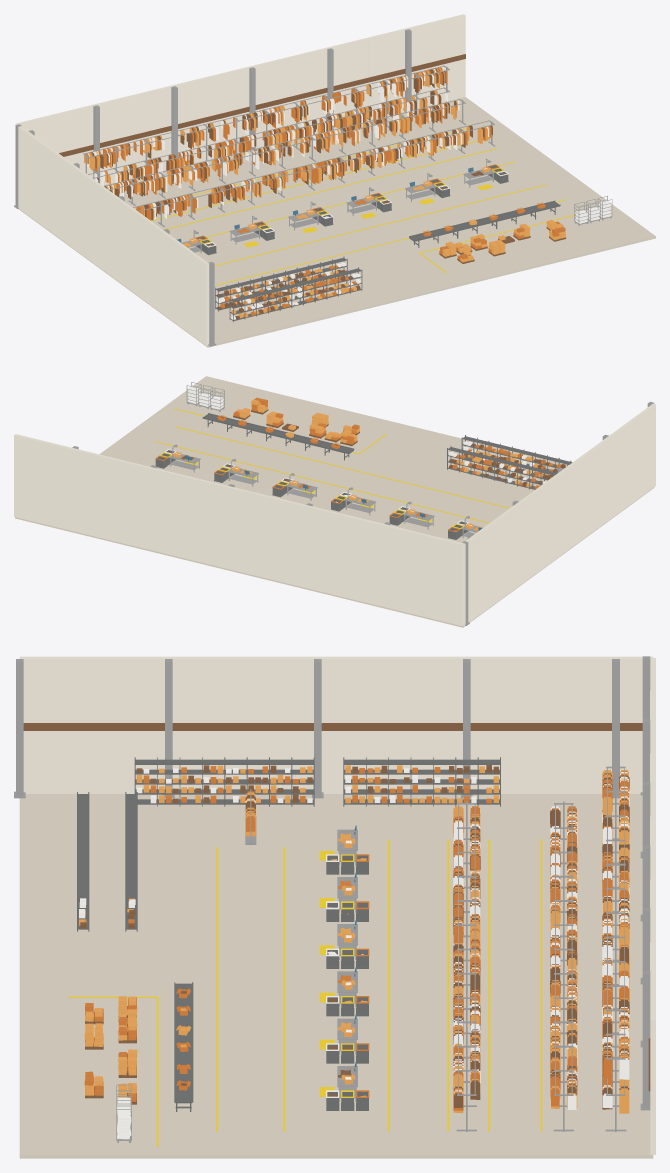
The model's file is fashion.glb.
The picture shows the model from 3 angles, top to bottom: view 1: azimuth 30°, elevation 25°; view 2: azimuth 150°, elevation 25°; view 3: azimuth 270°, elevation 25°; orthographic projection. The views are drawn at different scales.
Parts seen in each view (by area): view 1: hall_floor, hall_wall_y, hall_wall_x, rail_c_frame, hall_cols_y, hall_wall_y_band, lanes, flat_b_frame, rail_b_frame, rail_a_frame, rail_a_t0_0_load_orange, flat_a_frame (+29 smaller); view 2: hall_wall_y, hall_floor, hall_wall_x, flat_a_frame, intake_conveyor, lanes, flat_b_frame, hall_cols_y; view 3: hall_floor, hall_wall_x, hall_cols_x, lanes, hall_wall_x_band, flat_wall_a_frame, hall_cols_y, flat_wall_b_frame, hall_wall_y, rail_a_frame, rail_b_frame, rail_c_frame (+29 smaller).
Part boxes in pixels (x1,y1,x2,y2): hall_floor: (18,97,655,347); hall_wall_y: (16,14,465,184); hall_wall_x: (15,124,209,345); rail_c_frame: (83,65,450,178); hall_cols_y: (14,29,412,208); hall_wall_y_band: (59,54,465,156); lanes: (135,128,567,285); flat_b_frame: (229,267,362,322); rail_b_frame: (104,98,465,205); rail_a_frame: (133,120,495,227); rail_a_t0_0_load_orange: (146,126,491,220); flat_a_frame: (215,256,347,311); hall_wall_y: (14,434,463,625); hall_floor: (15,376,654,627); hall_wall_x: (462,403,655,625); flat_a_frame: (447,446,557,489); intake_conveyor: (202,413,354,460); lanes: (155,426,509,523); flat_b_frame: (461,435,572,475); hall_cols_y: (72,446,469,625); hall_floor: (19,794,653,1158); hall_wall_x: (19,656,653,793); hall_cols_x: (14,659,619,798); lanes: (216,839,542,1131); hall_wall_x_band: (23,723,642,730); flat_wall_a_frame: (134,757,314,806); hall_cols_y: (640,656,650,1110); flat_wall_b_frame: (343,757,500,806); hall_wall_y: (650,658,655,1154); rail_a_frame: (456,801,476,1131); rail_b_frame: (553,801,573,1131); rail_c_frame: (605,765,626,1131).
Size of the model in its own units: 46.31 by 8.22 by 34.46.
